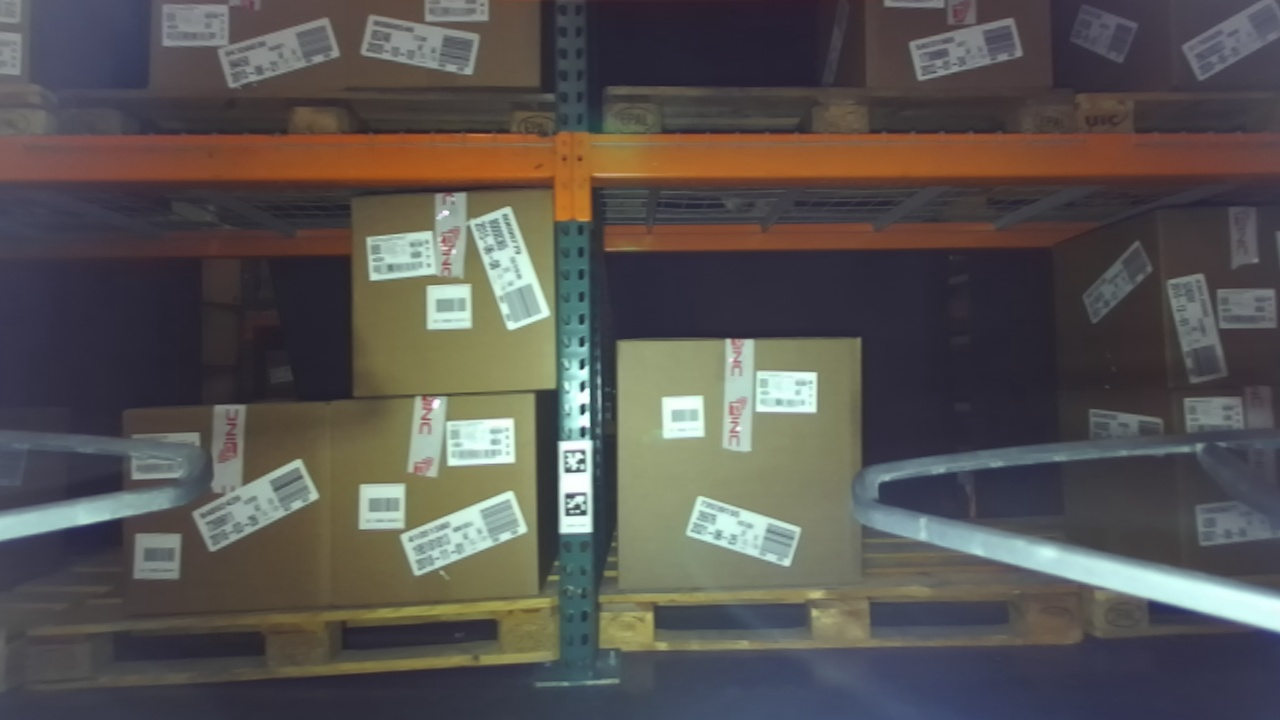box: (605, 330, 876, 609), (102, 377, 352, 619), (335, 172, 582, 411), (316, 386, 556, 628)
